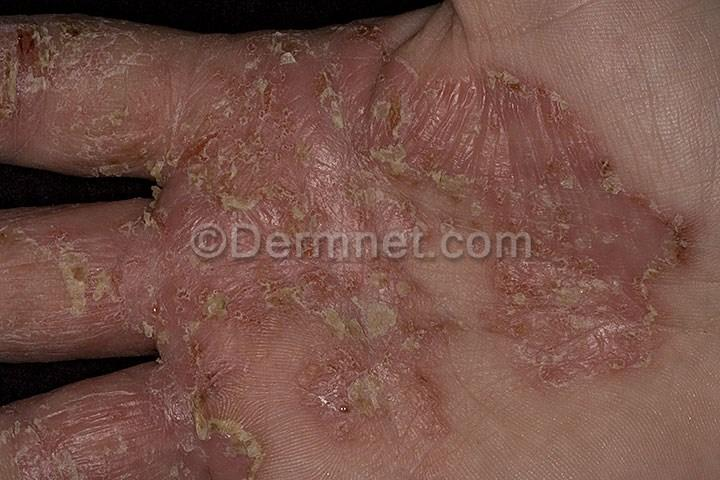Eczema: (235, 68, 426, 230), (296, 271, 454, 450), (0, 15, 189, 161), (426, 83, 587, 236), (590, 184, 689, 417), (464, 263, 587, 436), (169, 254, 294, 419), (8, 232, 151, 350), (57, 377, 195, 480), (178, 60, 234, 232), (236, 22, 409, 69), (170, 422, 276, 480)
